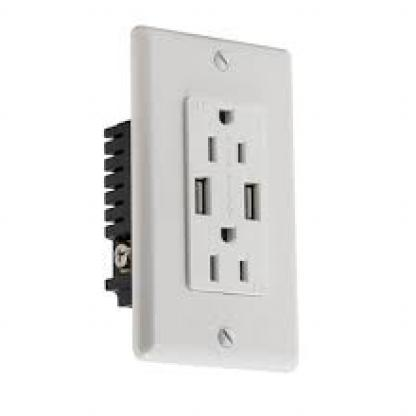OUTLET: (132, 46, 301, 372)
